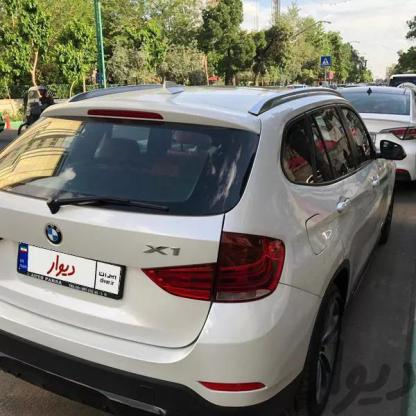Car: (0, 78, 401, 415), (315, 57, 416, 193)
